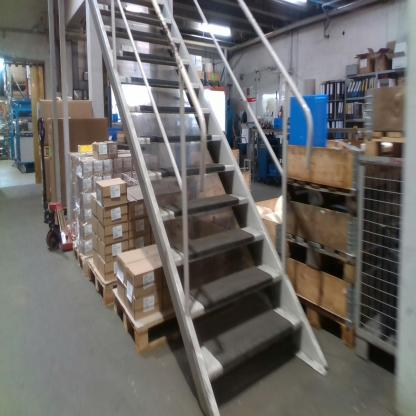pallet: (114, 277, 185, 354), (285, 230, 358, 284), (292, 291, 356, 352), (285, 176, 361, 211), (88, 257, 115, 310), (73, 239, 90, 276)
pallet_truck: (36, 113, 75, 253)
stillage: (352, 150, 405, 374)
